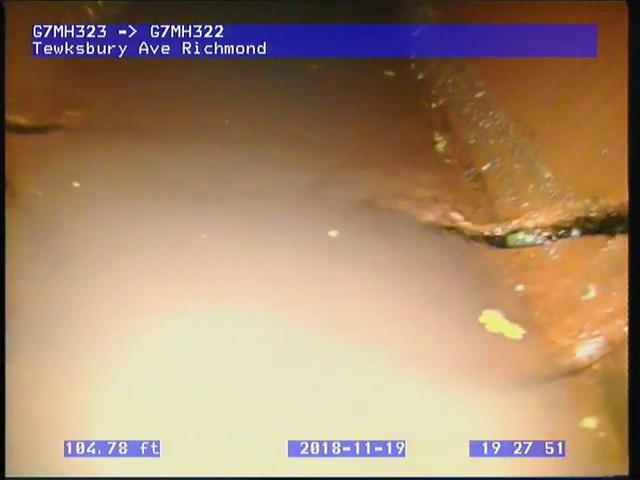crack: (434, 195, 627, 255), (4, 108, 68, 140)
